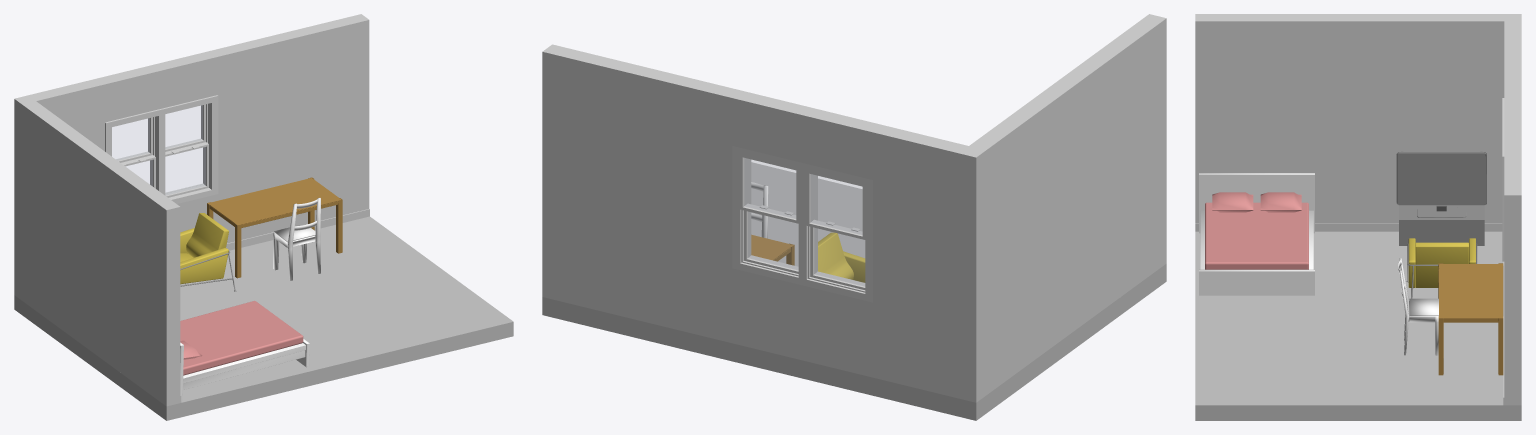
Rendered from L12_W16_furniture3_circulation2.glb.
3 renders of one model, left to right at view 1: azimuth 30°, elevation 25°; view 2: azimuth 150°, elevation 25°; view 3: azimuth 270°, elevation 25°, orthographic. The views are drawn at different scales.
Bounding box in the file's own units: 200 × 116 × 152.
